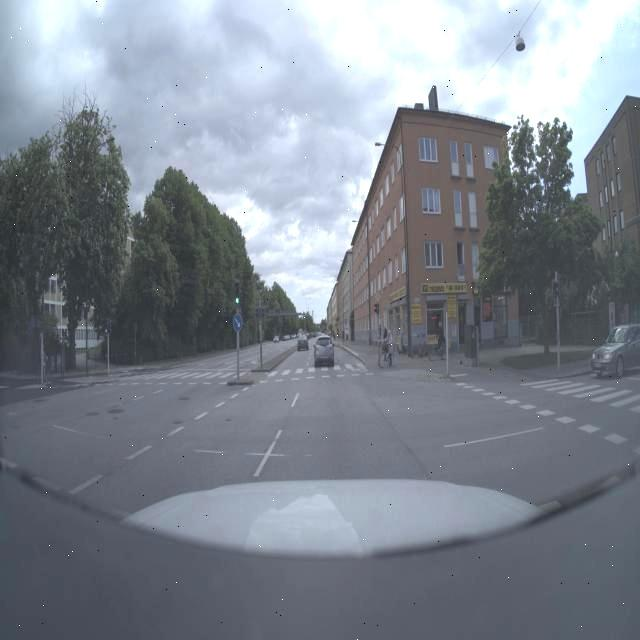Green: (226, 273, 251, 320)
